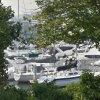Tree: (44, 0, 100, 50)
